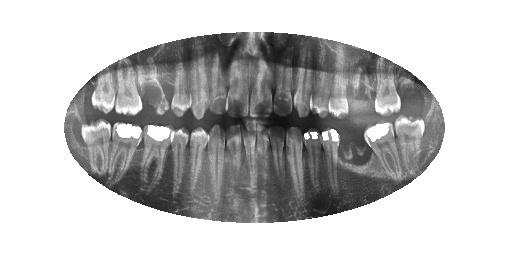i10decay: (222, 124, 243, 172)
i11decay: (208, 124, 226, 199)
i12healthy: (188, 126, 210, 195)
i13decay: (169, 127, 190, 197)
i14healthy: (141, 123, 173, 191)
i15healthy: (108, 121, 145, 188)
i16healthy: (76, 118, 111, 177)
i1healthy: (394, 115, 426, 167)
i2healthy: (364, 121, 402, 185)
i3loss: (341, 126, 364, 185)
i4healthy: (320, 126, 342, 193)
i5healthy: (301, 127, 325, 191)
i6decay: (284, 125, 305, 194)
i7decay: (266, 125, 287, 180)
i8decay: (253, 123, 271, 178)
i9decay: (242, 122, 257, 176)
u10decay: (206, 47, 231, 120)
u11healthy: (189, 47, 209, 122)
u12healthy: (169, 47, 192, 120)
u13loss: (155, 53, 175, 111)
u14decay: (135, 53, 169, 116)
u15healthy: (113, 59, 142, 116)
u16healthy: (90, 72, 115, 114)
u1loss: (397, 71, 419, 115)
u2healthy: (371, 58, 401, 120)
u3loss: (347, 54, 375, 121)
u4healthy: (325, 49, 349, 121)
u5decay: (306, 48, 332, 119)
u6chipped: (292, 48, 313, 120)
u7decay: (271, 49, 296, 123)
u8decay: (249, 48, 277, 121)
u9decay: (222, 48, 253, 121)
